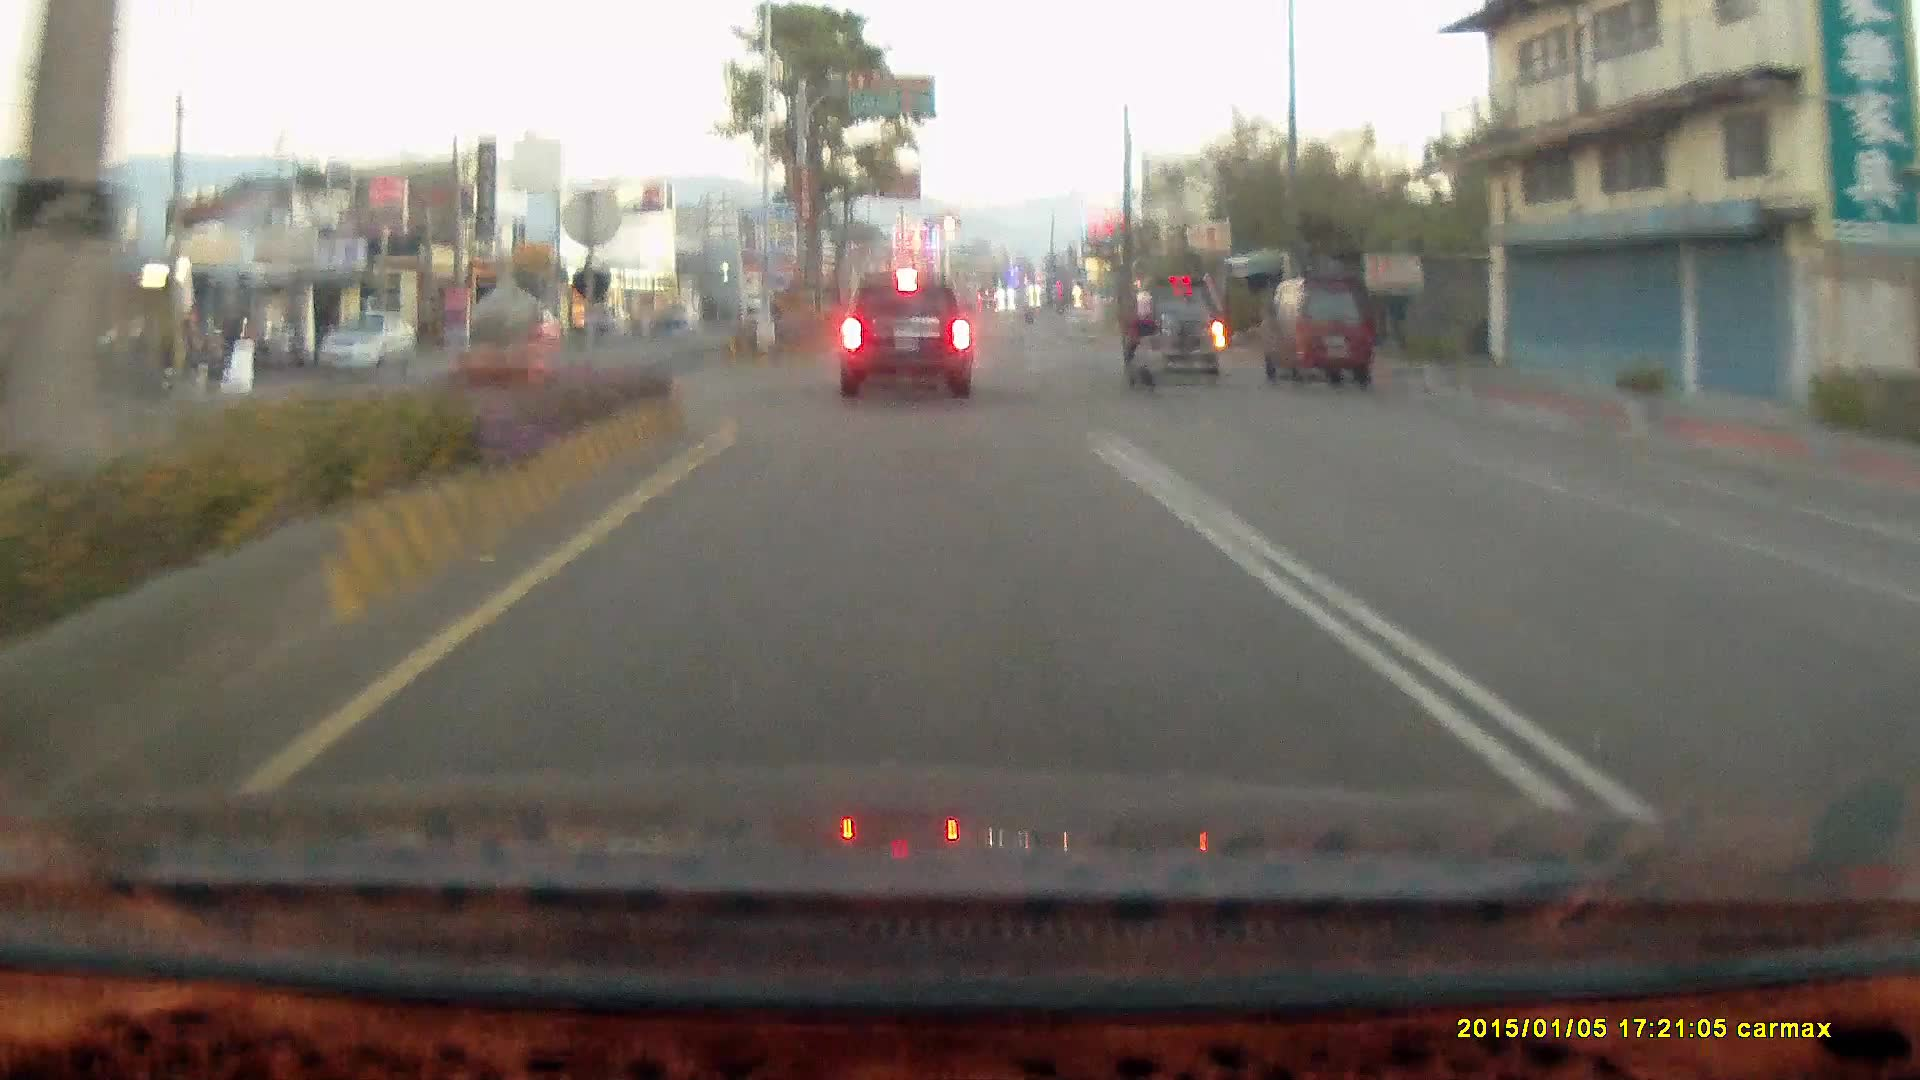pedestrian: (215, 310, 244, 375)
rider: (1119, 293, 1164, 390)
vehicle: (839, 274, 971, 396), (1260, 276, 1374, 387), (1266, 277, 1375, 389), (1131, 279, 1236, 380), (1129, 278, 1226, 379), (1896, 493, 1920, 836), (313, 312, 418, 377), (314, 313, 416, 376), (1883, 528, 1920, 690), (1062, 304, 1099, 334)
